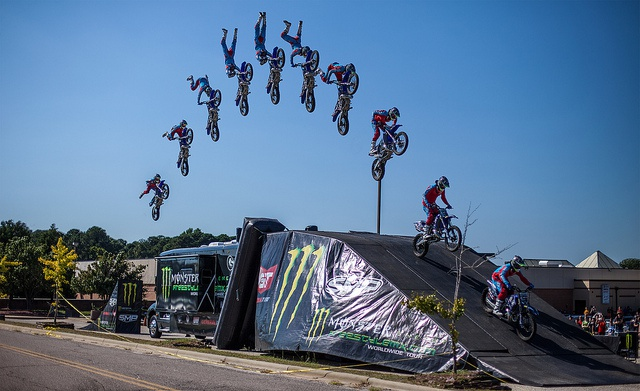non-vehicle: (411, 206, 462, 258), (368, 120, 409, 183), (501, 285, 537, 341), (291, 50, 323, 112), (331, 64, 357, 134), (142, 170, 170, 226), (199, 88, 221, 142), (266, 46, 283, 105), (234, 61, 252, 116), (176, 128, 194, 177)
